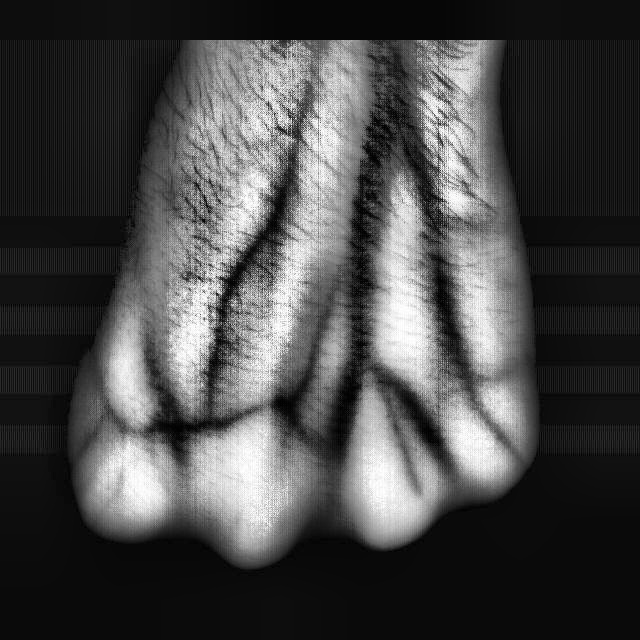Vein: (337, 115, 398, 333)
